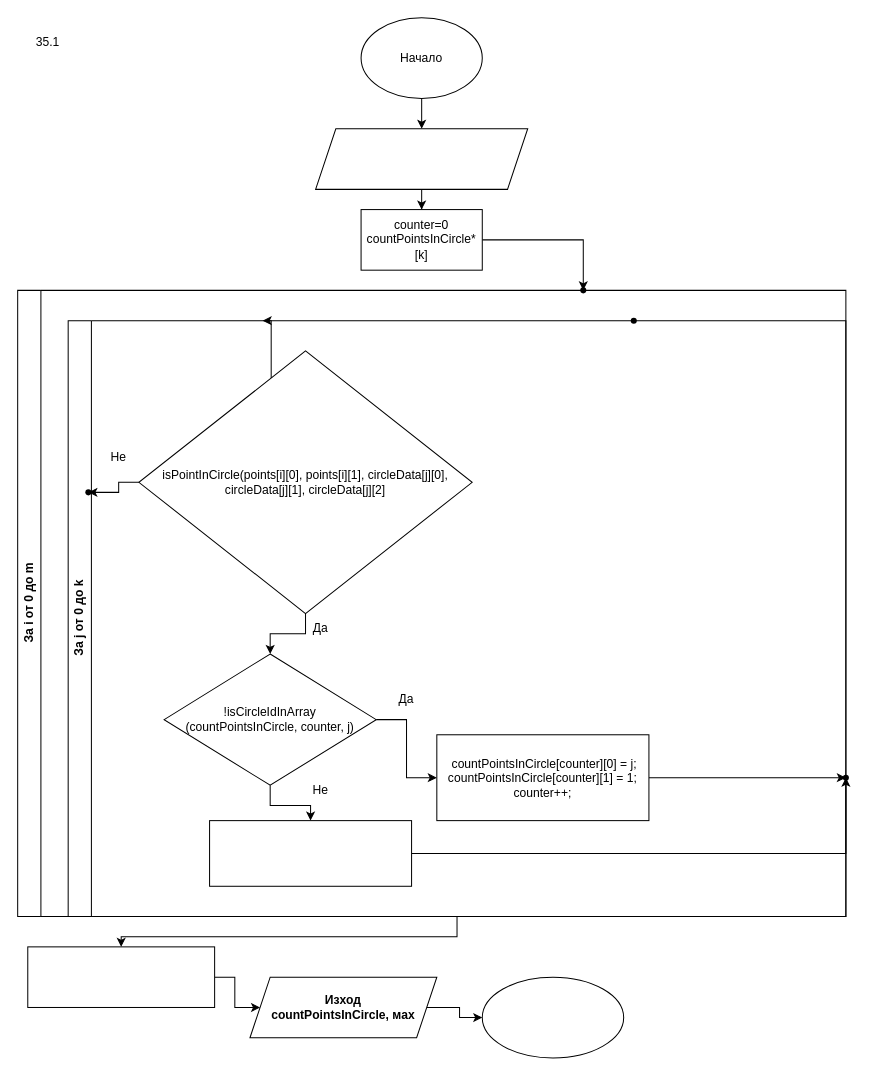
Some shapes in this 874 by 1076 pixel diagram are drawn without their labels. Here are the shapes that lost their labels. From the top down, the centre of each, then its label:
the point at 421,158: k,circleData*[k],m,points*[m]
the point at 310,853: updateCircleIdPointsCounter(j, countPointsInCircle, counter);
the point at 121,976: sort(countPointsInCircle, counter + countPointsInCircle, getHeighest);
the point at 552,1017: Край
